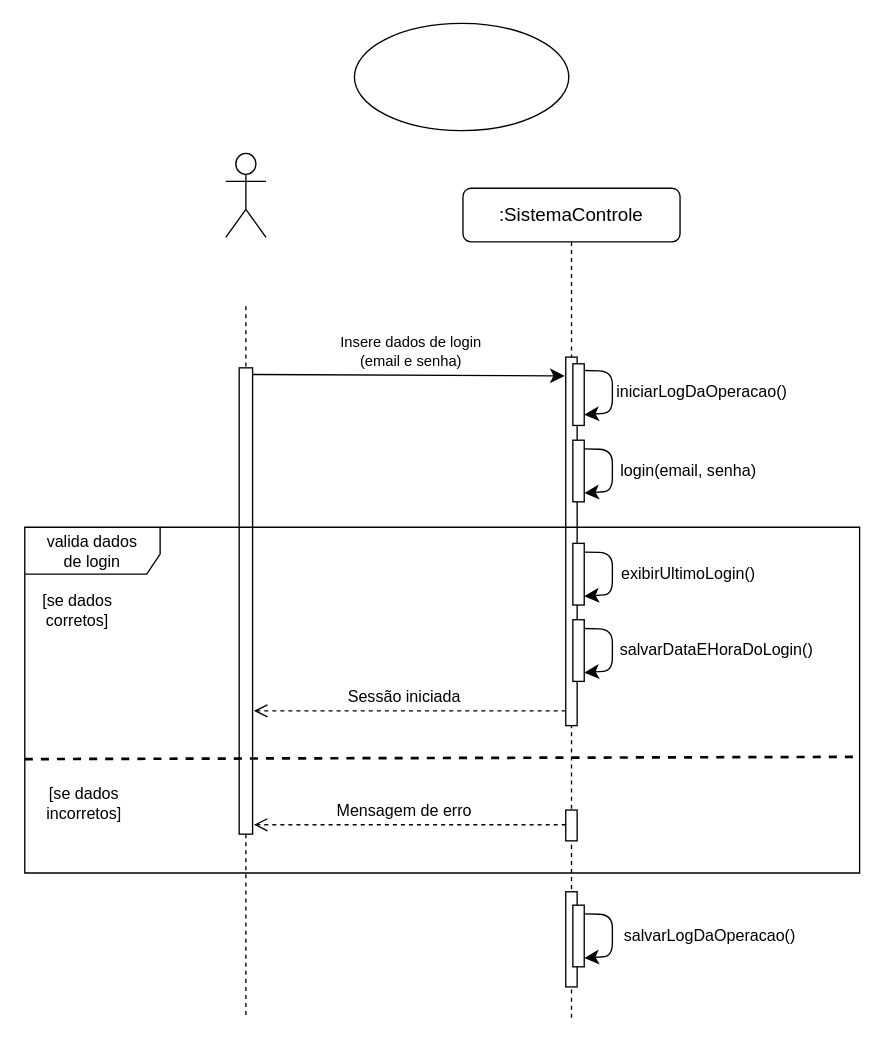
The diagram is 884 pixels wide and 1056 high, and some of its shapes have lost their labels. Here are the shapes that lost their labels. From the top down, the centre of each, then its label:
pixel 461 76: UC-03 Logar-se
pixel 245 194: Usuário (Admin, Master ou "dono de andar")
